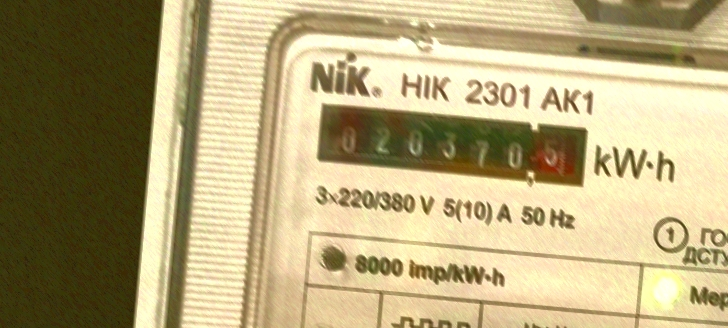0: (504, 139, 525, 170), (338, 122, 358, 152), (406, 126, 424, 155)
2: (372, 123, 393, 156)
3: (439, 128, 458, 159)
5: (541, 135, 561, 168)
7: (471, 137, 489, 168)
screen: (308, 96, 596, 195)
